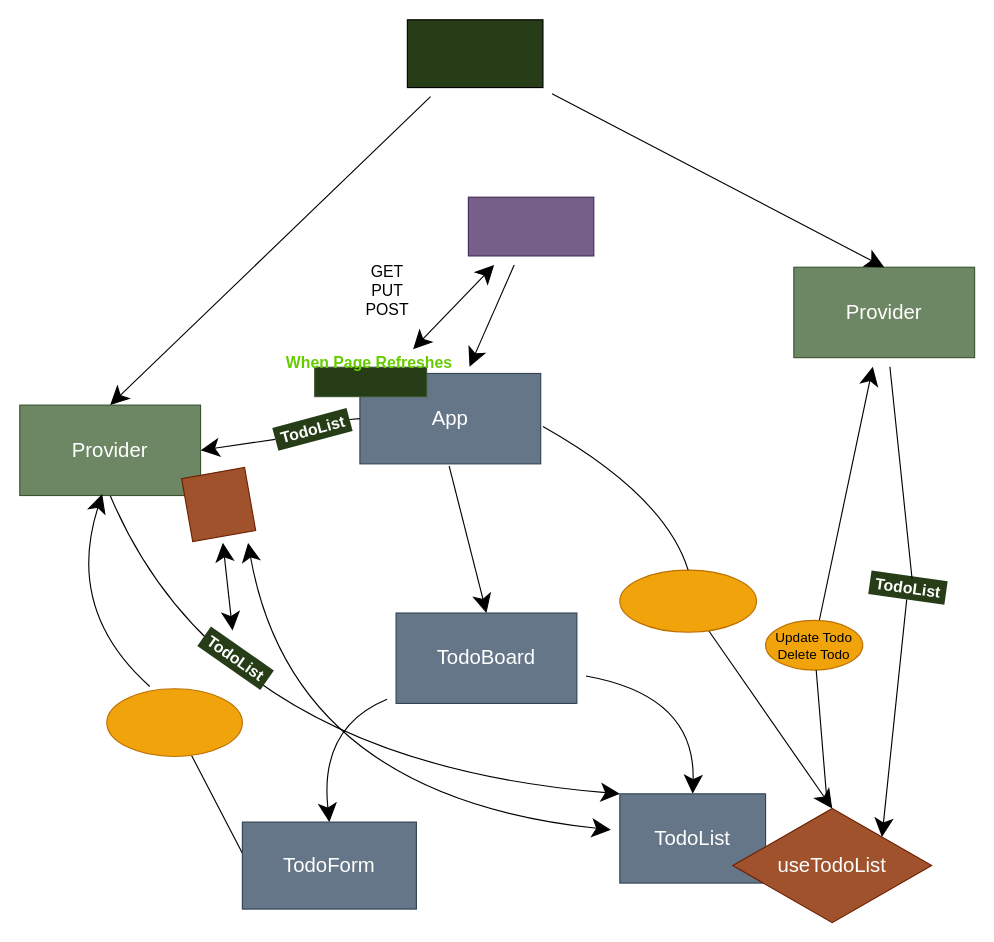
This 994x942 diagram has some shape labels left out. The centre of each missing label's shape, as x and y in pixels:
"Add Todo" belongs at (174,722).
"API" belongs at (530,226).
"Context state dispatch" belongs at (474,53).
"Get Todo" belongs at (688,600).
"reducers" belongs at (218,504).
"UpdateWaiting" belongs at (370,381).
